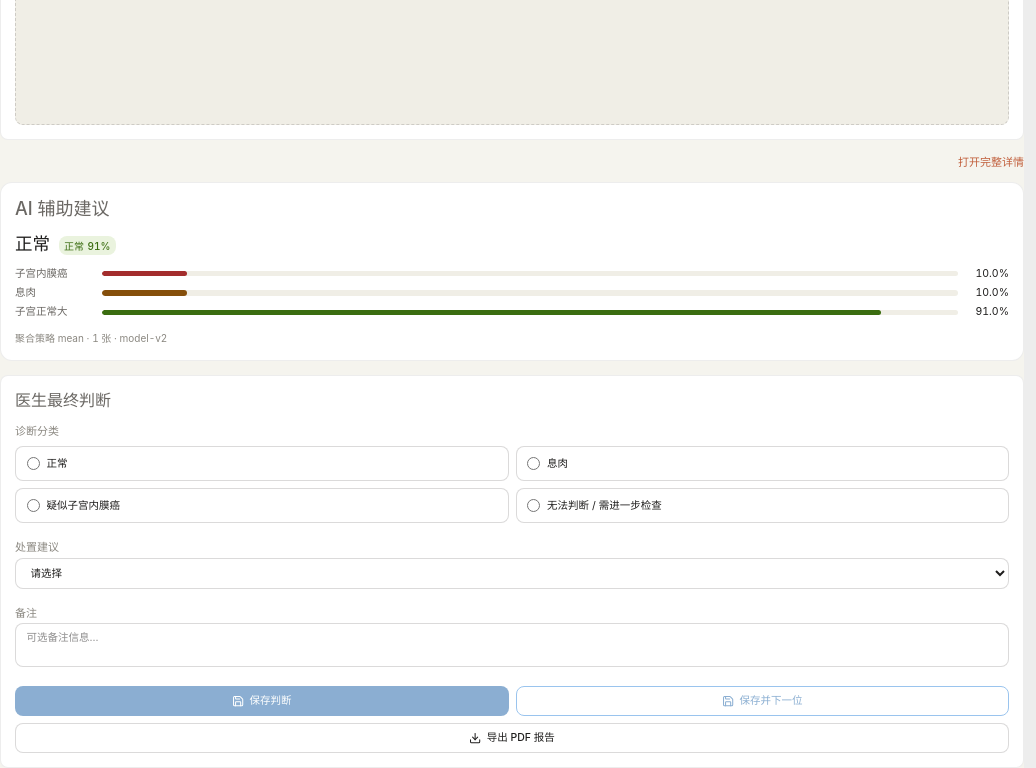
BatchDetail continuous diagnosis workflow › announces that a cancelled batch ended when pending predictions remain
(page scrolled)
Click the radio button labelled "正常" at (33, 464), box [26,457,40,470]
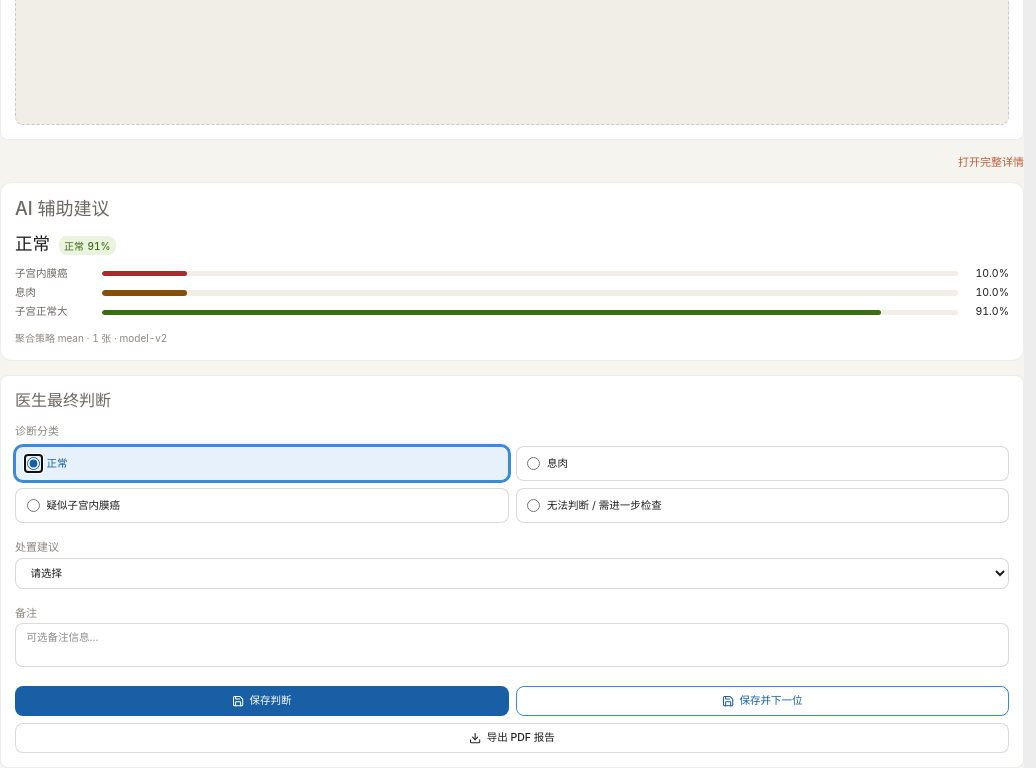
Click the button "保存并下一位" at (762, 701), box [516,686,1009,716]
(page scrolled)
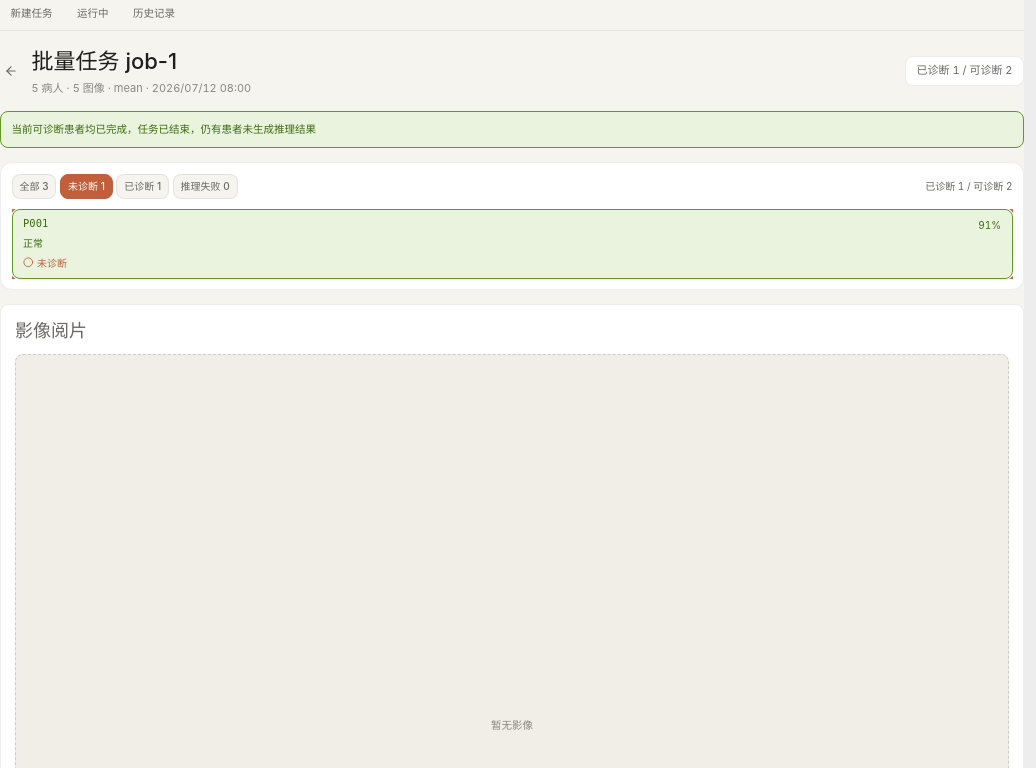
expect the text "当前可诊断患者均已完成，任务已结束，仍有患者未生成推理结果" is shown: met, box [0,111,1024,148]
